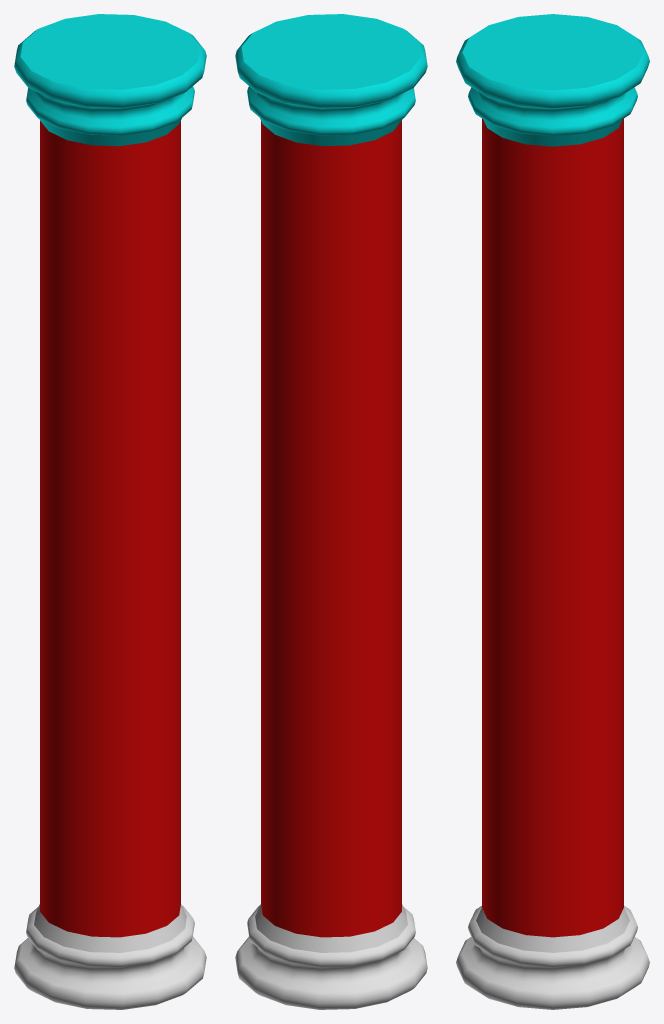
File: SM_ColumnBasic4m.fbx
The picture shows the model from 3 angles, left to right: view 1: azimuth 30°, elevation 25°; view 2: azimuth 150°, elevation 25°; view 3: azimuth 270°, elevation 25°; orthographic projection.
Visible parts, largest first — view 1: SM_ColumnBasic4m; view 2: SM_ColumnBasic4m; view 3: SM_ColumnBasic4m.
Boxes of the visible parts, bbox=[...] form: SM_ColumnBasic4m: bbox=[14, 14, 206, 1009]; SM_ColumnBasic4m: bbox=[235, 14, 427, 1009]; SM_ColumnBasic4m: bbox=[456, 14, 649, 1009].
Bounding box in the file's own units: 76.48 × 400 × 76.48.
